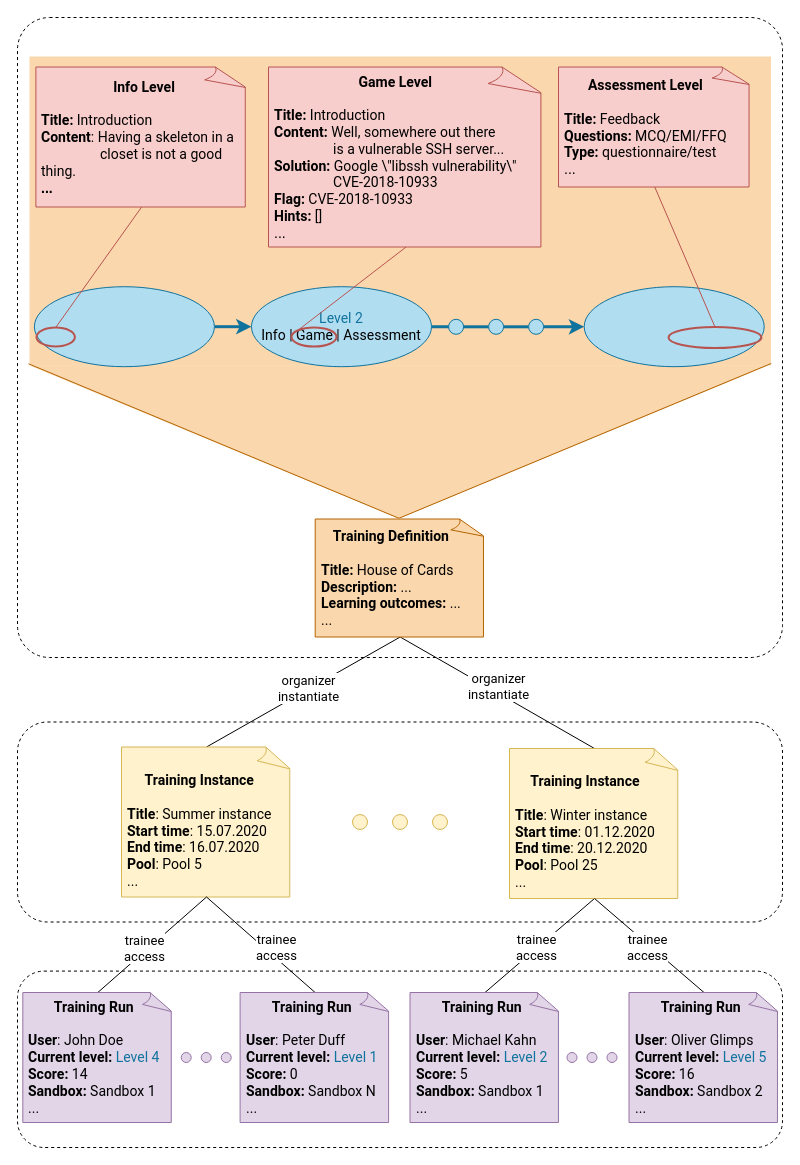
Image size: 800x1165. Some labels were removed from this diagram. The box of each missing label's shape, as (x1, y1, x2, y2) in pixels:
Level 1 Info | Game | Assessment: (33, 286, 214, 367)
Level N Info | Game | Assessment: (583, 286, 764, 367)
Training definition s: (16, 16, 782, 658)
Training instances: (16, 721, 782, 922)
Training runs: (16, 970, 782, 1148)
